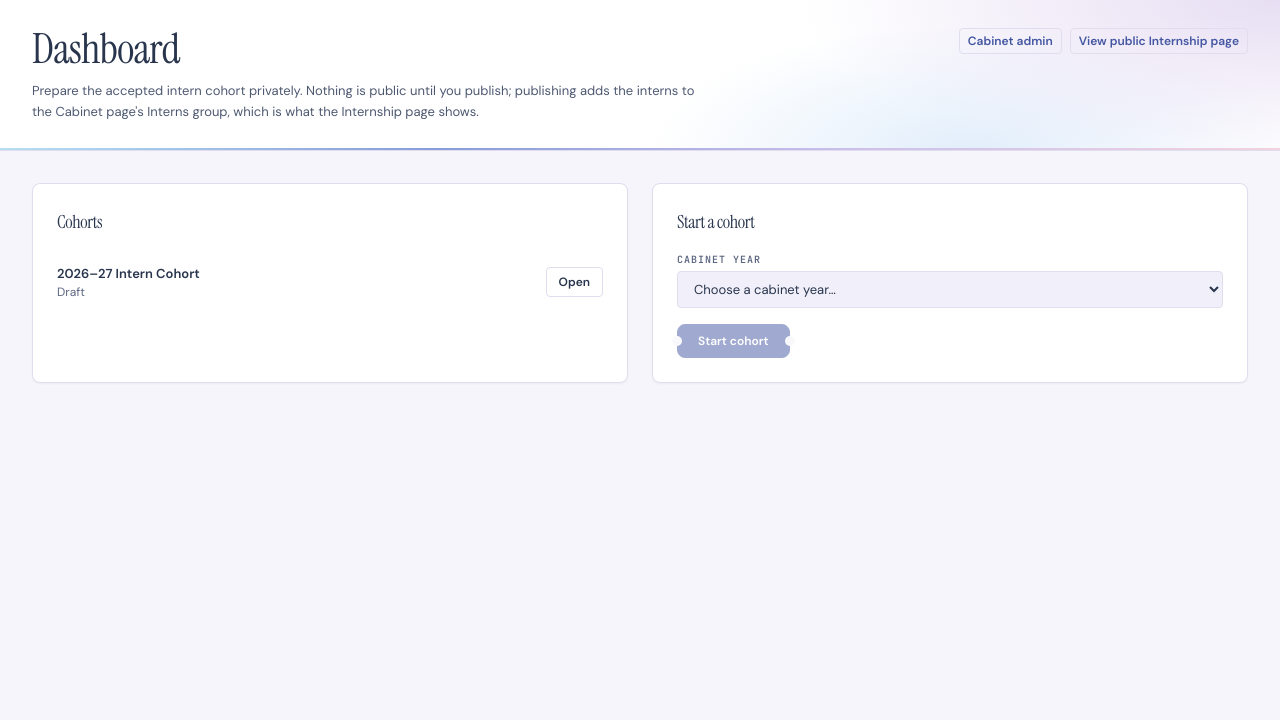
Test: shadow positions › keeps a saved title visible after it stops being a Board position
Click the button "Open" at {"x": 574, "y": 282}, box [546,267,603,297]
(page scrolled)
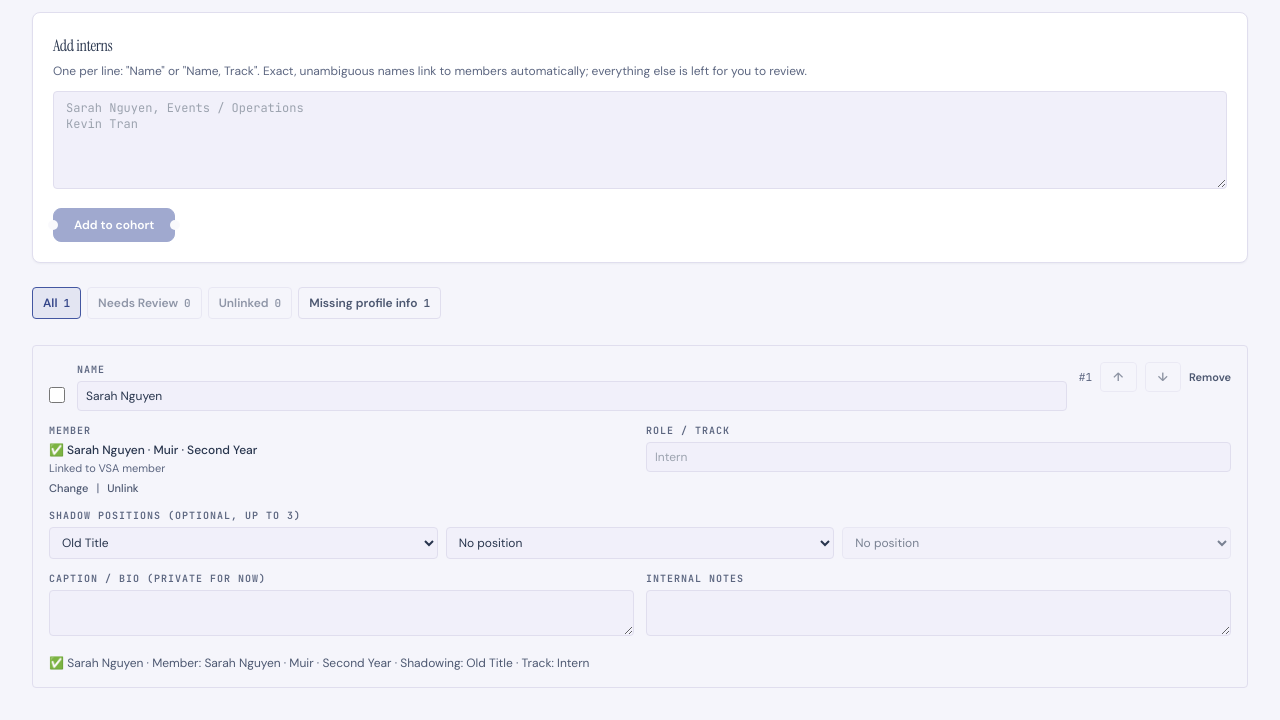
Expected: the text "Shadowing: Old Title" is shown, [49,655,590,671]
